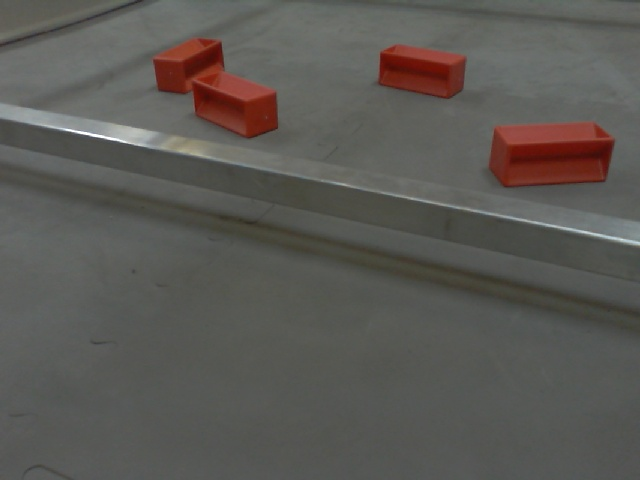RedSample: (488, 116, 617, 192), (375, 43, 467, 107), (191, 71, 279, 134), (149, 32, 224, 95)
